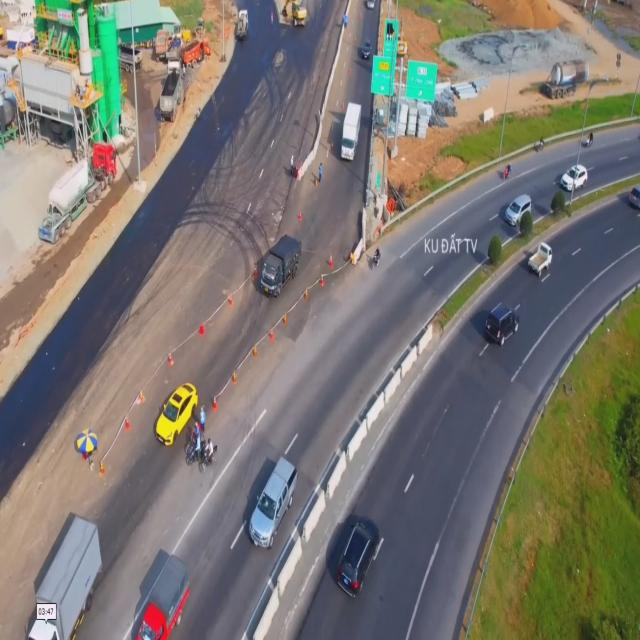car: (249, 454, 298, 547), (332, 512, 383, 600), (154, 384, 196, 446), (484, 299, 519, 351), (505, 194, 534, 229), (563, 161, 588, 191)
motorbike: (195, 437, 216, 475)
truck: (27, 514, 102, 640), (134, 554, 188, 640), (260, 230, 300, 302), (341, 101, 362, 161), (530, 241, 555, 281)
